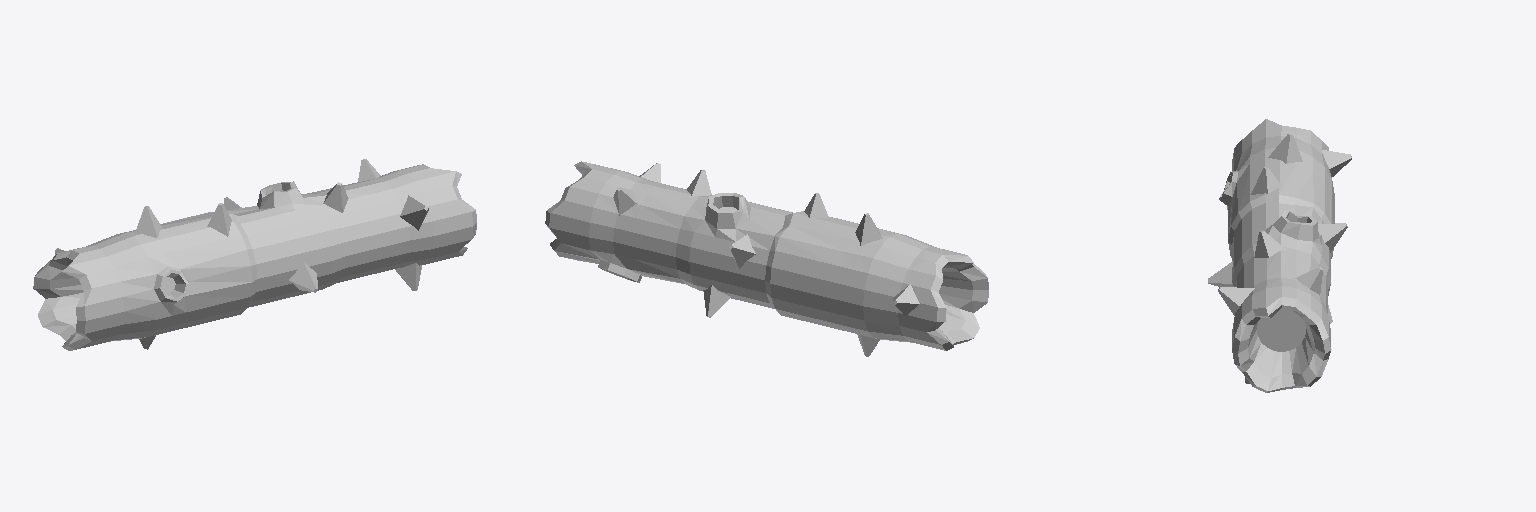
Rendered from tronco_low3_lasuvsdiferentes.obj.
3 renders of one model, left to right at view 1: azimuth 30°, elevation 25°; view 2: azimuth 150°, elevation 25°; view 3: azimuth 270°, elevation 25°, orthographic.
Size of the model in its own units: 19.23 by 6.54 by 6.03.